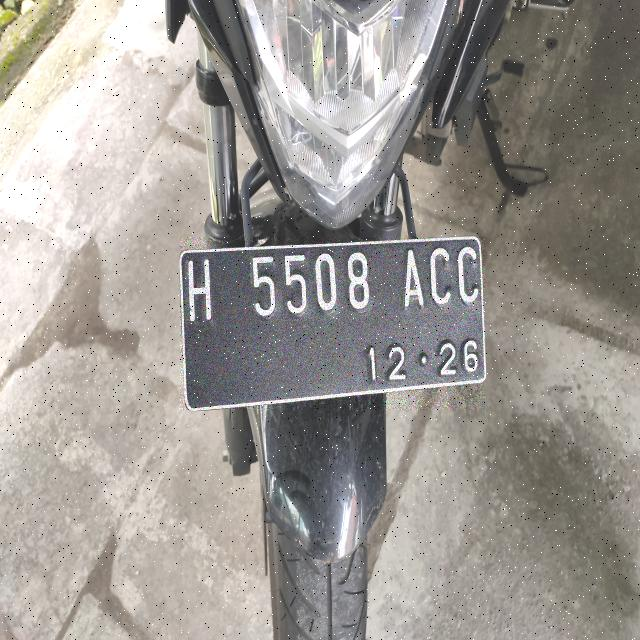plate: (181, 238, 484, 409)
